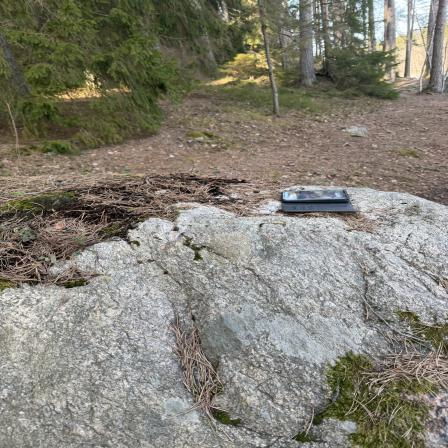phone: (280, 189, 354, 213)
